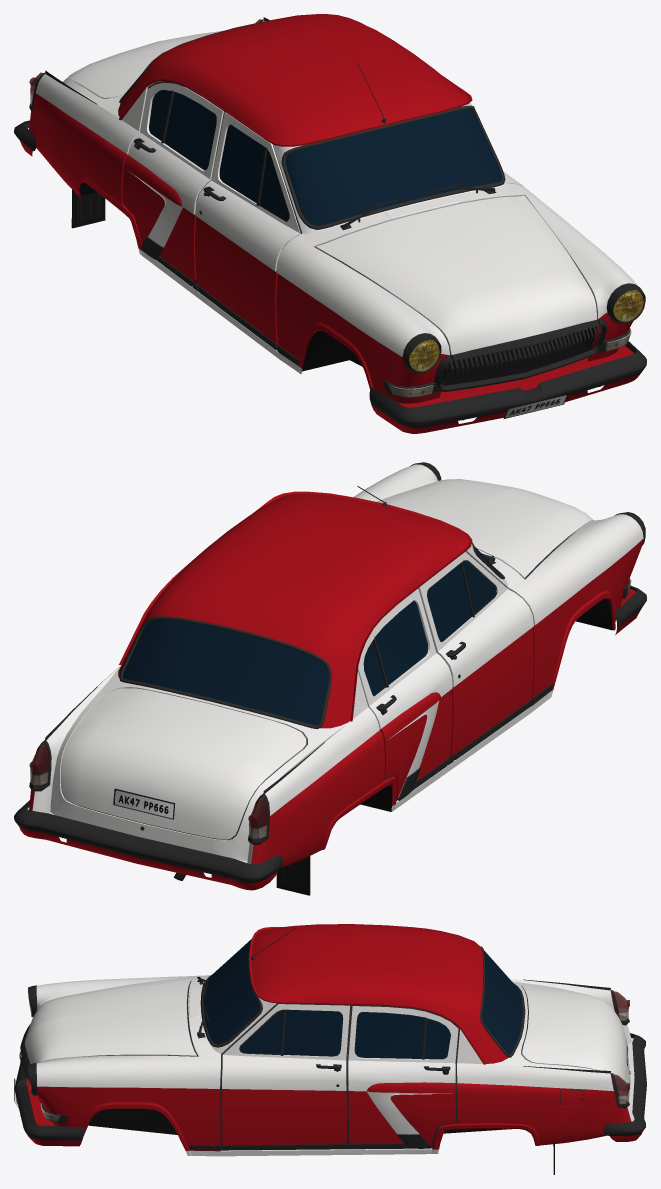
The model's file is Volga_Gaz.FBX.
The picture shows the model from 3 angles, top to bottom: view 1: azimuth 30°, elevation 25°; view 2: azimuth 150°, elevation 25°; view 3: azimuth 270°, elevation 25°; orthographic projection. The views are drawn at different scales.
Visible parts, largest first — view 1: Object001; view 2: Object001; view 3: Object001.
Boxes of the visible parts, <box> form: Object001: <box>14,14,646,433</box>; Object001: <box>14,462,646,895</box>; Object001: <box>14,924,646,1174</box>.
Size of the model in its own units: 1.81 by 1.69 by 4.81.
9 materials, 3 textured.
